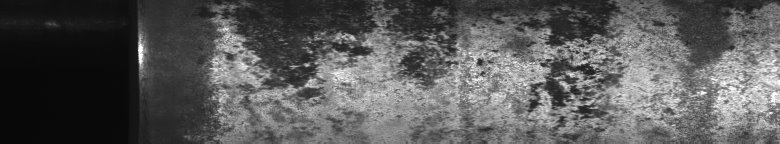kb: (202, 4, 776, 136)
